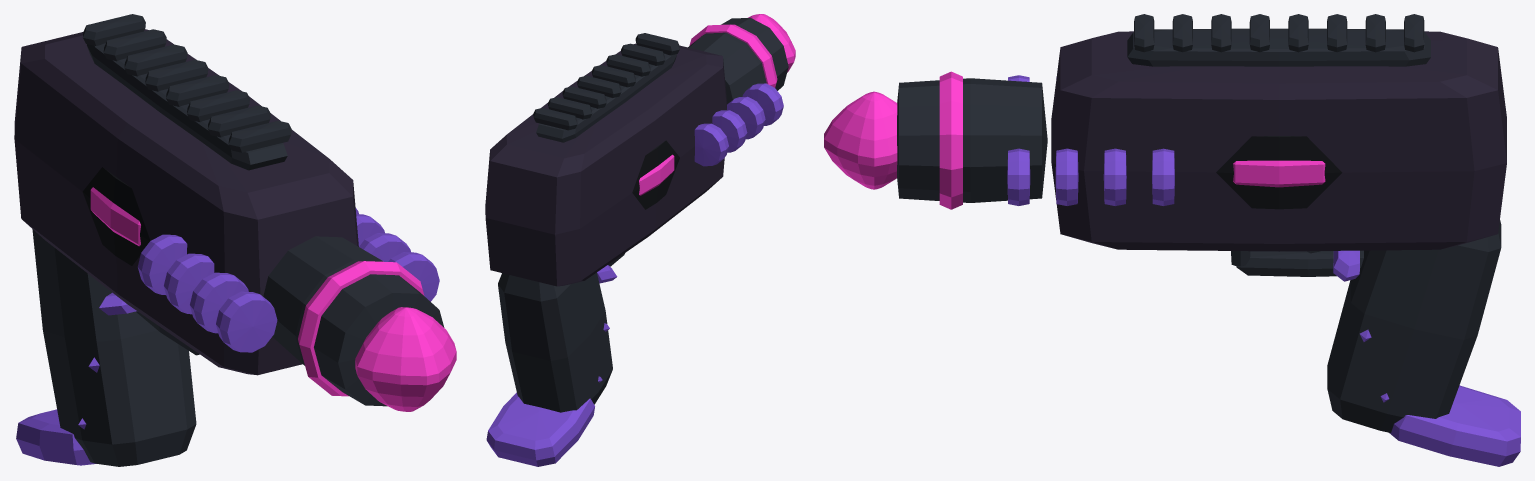
File: g-energy-2.glb
3 renders of one model, left to right at view 1: azimuth 30°, elevation 25°; view 2: azimuth 150°, elevation 25°; view 3: azimuth 270°, elevation 25°, orthographic. The views are drawn at different scales.
Visible parts, largest first — view 1: gun; view 2: gun; view 3: gun.
Boxes of the visible parts, x1,y1,x2,y2 form: gun: [14, 14, 456, 466]; gun: [485, 14, 795, 466]; gun: [824, 14, 1520, 466].
Size of the model in its own units: 0.24 by 0.4846 by 0.7225.
